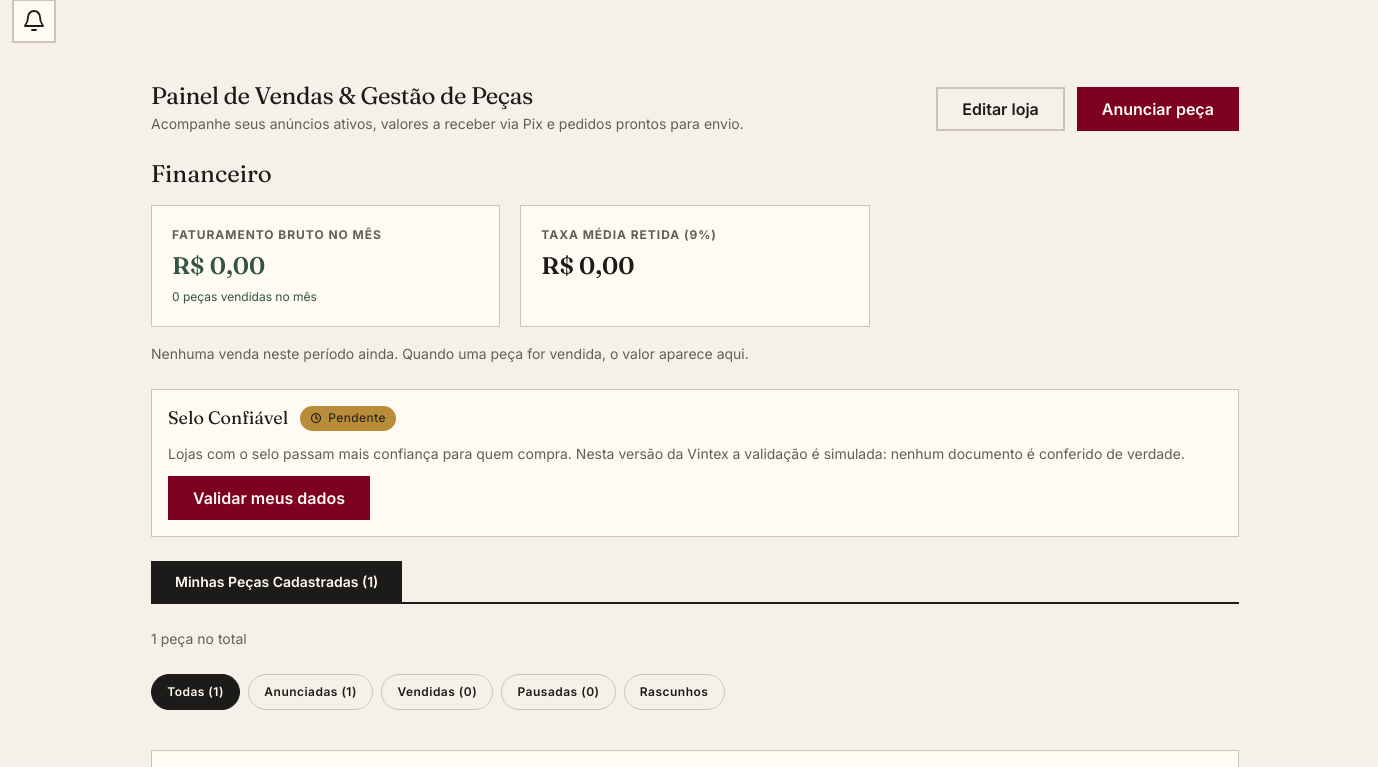
Test case: <SellerAdmin /> › filtro sem resultado oferece voltar para todas, sem dizer que não há peças
This screenshot has width=1378, height=767.
Step 1. Click the button "Vendidas (0)" → (437, 692), box [381,674,493,710]
(page scrolled)
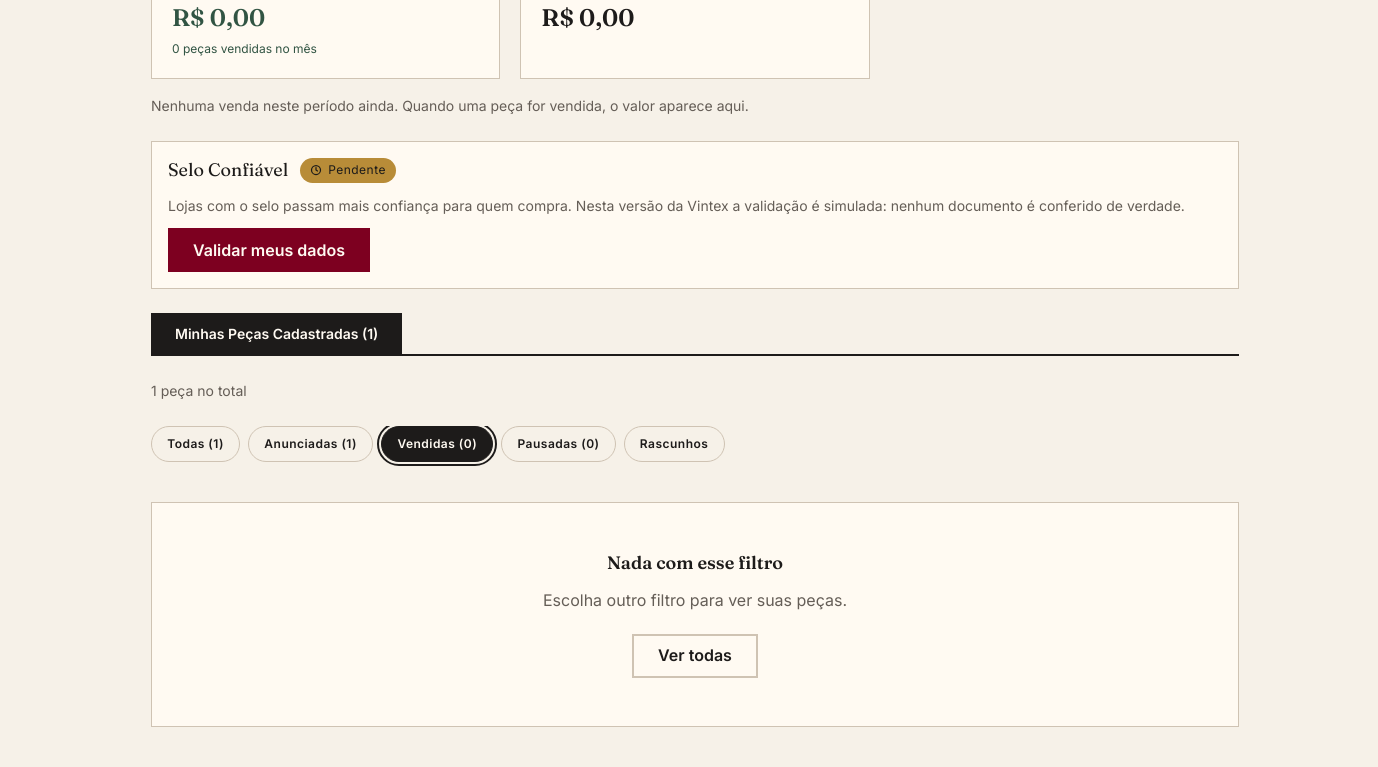
Expected: the text "Nada com esse filtro" is shown, [607,551,783,575]
Step 2. Click the button "Ver todas" → (695, 656), box [632,634,758,678]
(page scrolled)
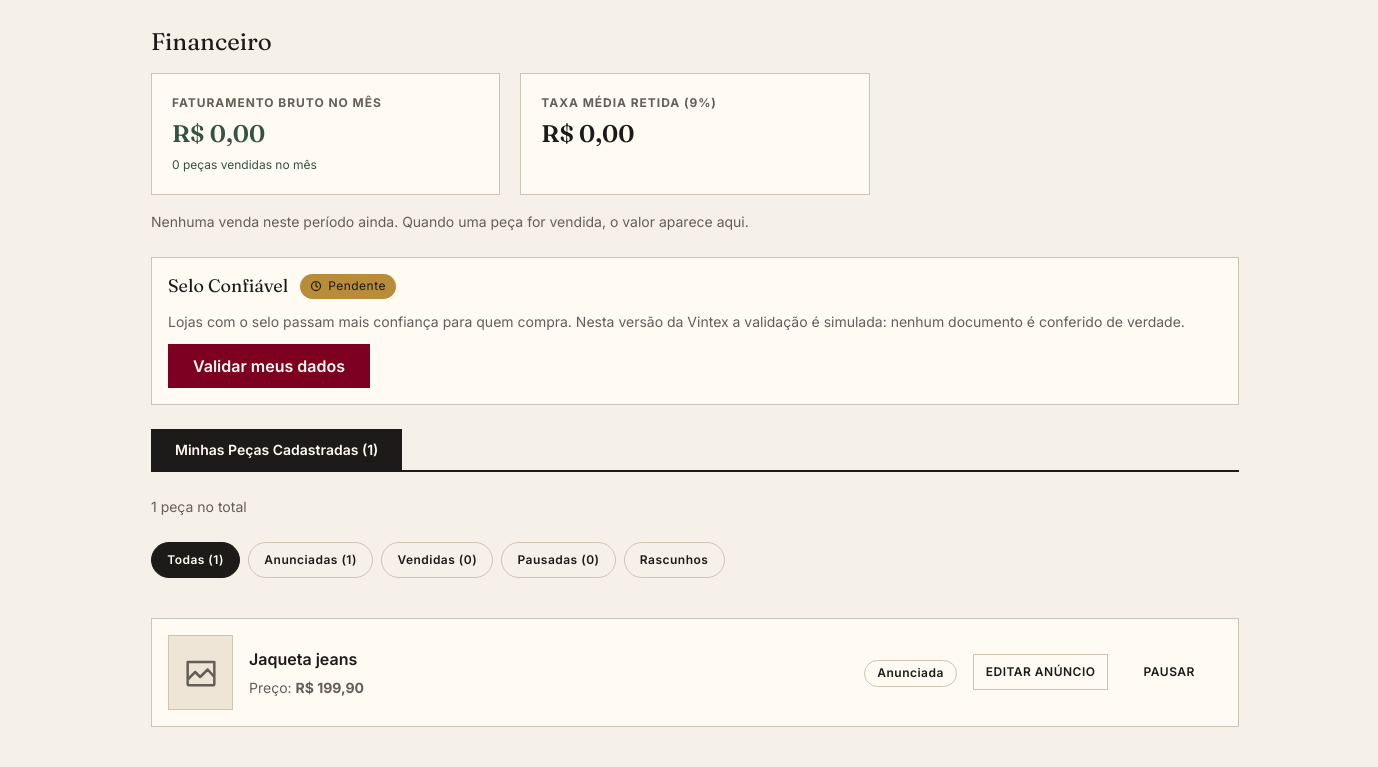
Expected: the button "Jaqueta jeans" is shown, [249,646,357,673]
